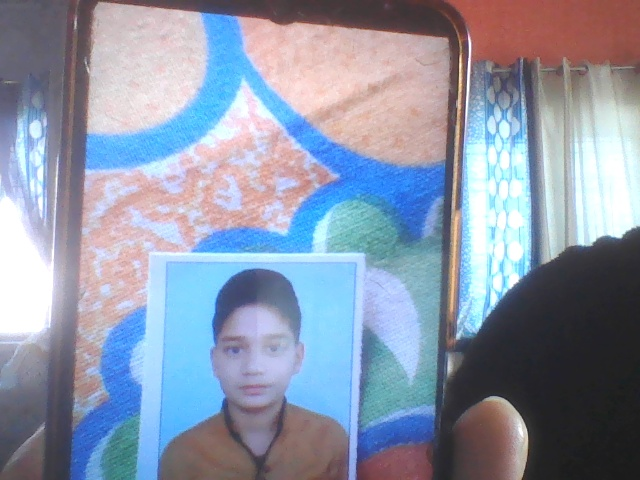fake: (202, 251, 330, 432)
